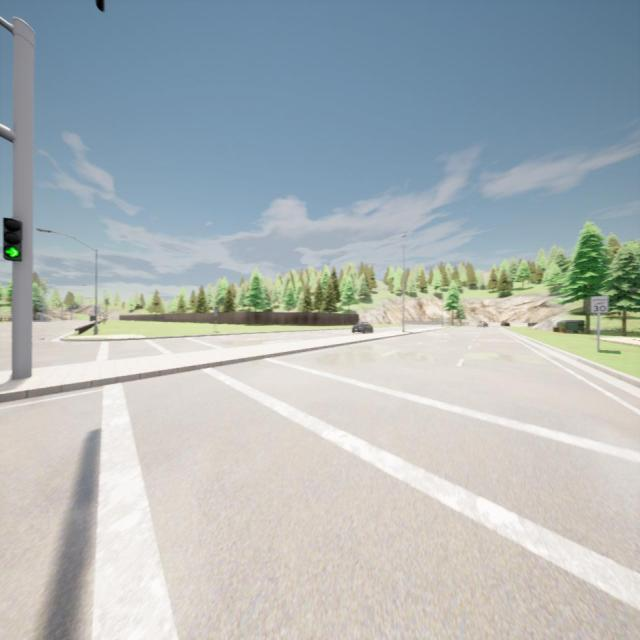Traffic_Signs: (591, 297, 608, 314)
Vehicle: (352, 318, 374, 337), (476, 320, 489, 329), (500, 319, 510, 328)
traffic_light: (4, 218, 22, 261)
